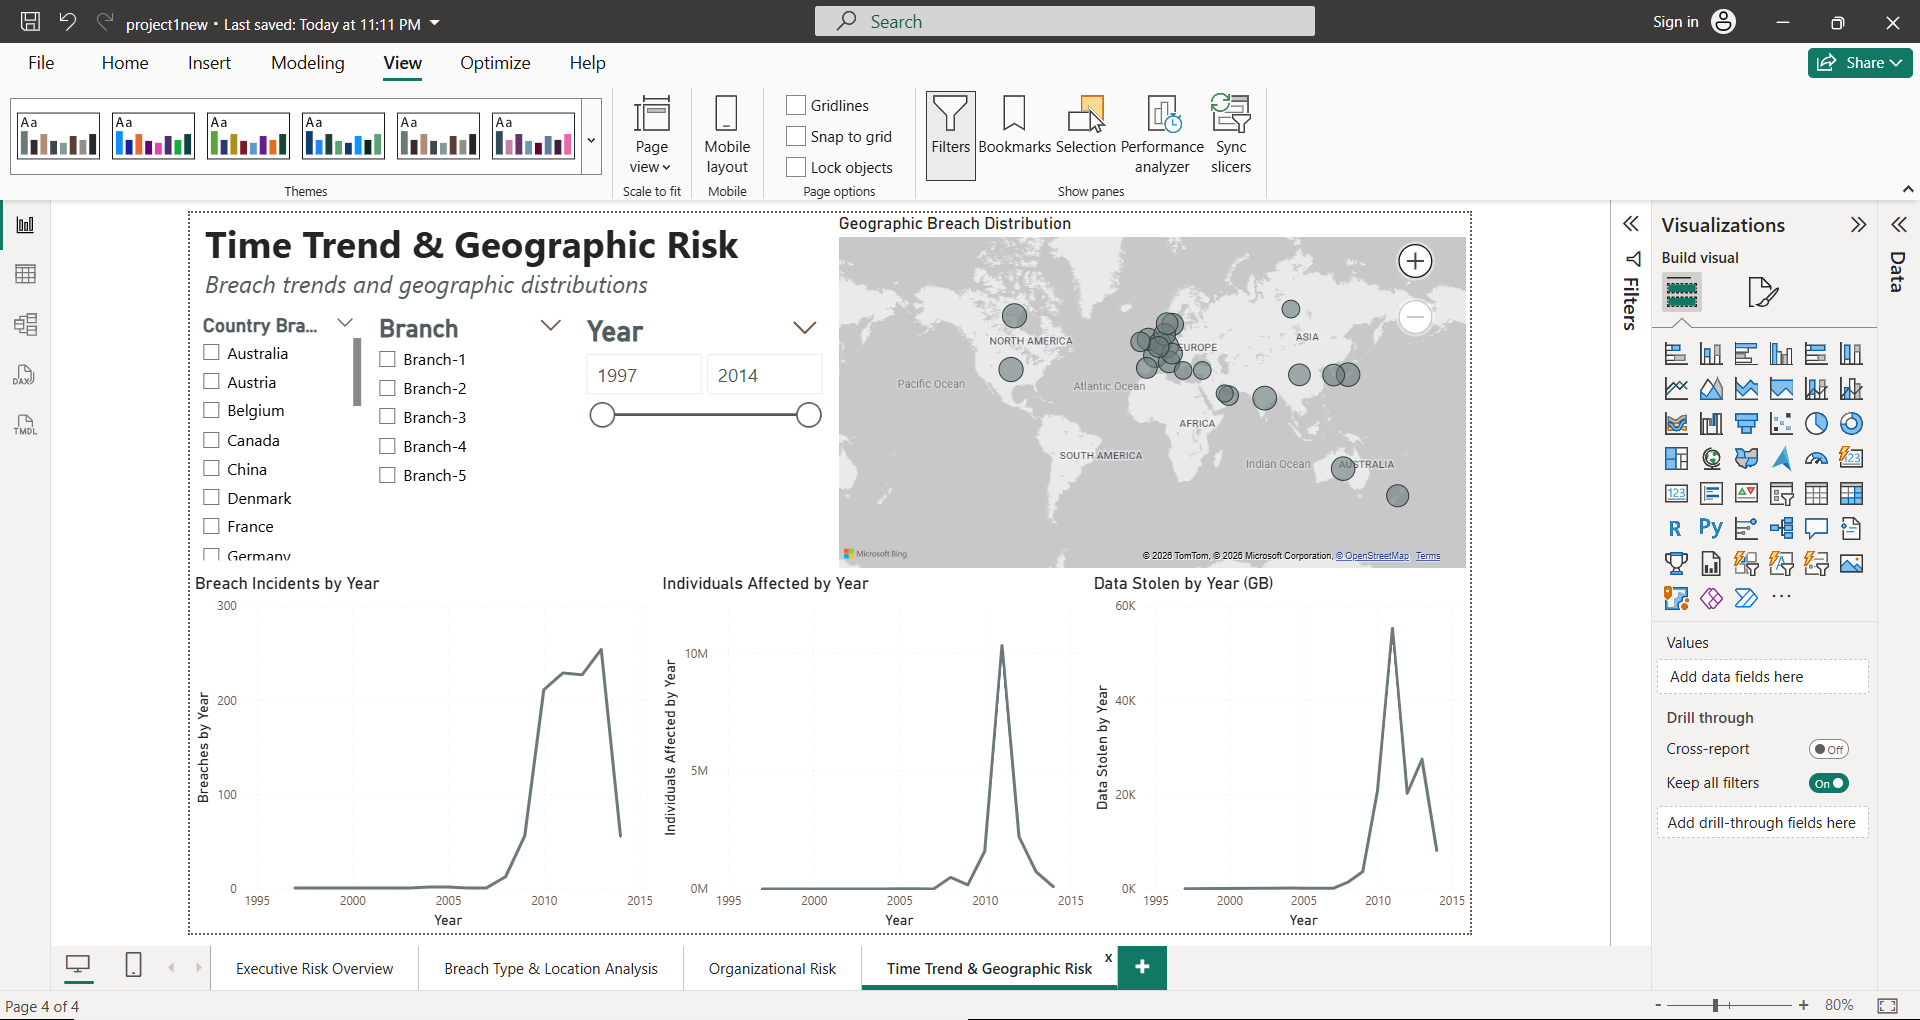

The page's visual inventory and layout, read from the dashboard file:
{"tool":"powerbi","page":{"name":"Time Trend & Geographic Risk","canvas":[1280,720],"ordinal":3},"visuals":[{"type":"textbox","box":[10,0,553.3,104.4],"z":0},{"type":"lineChart","title":"Breach Incidents by Year","fields":{"Category":["Final Transformed Data.Year"],"Y":["Dashboard Measures.Breaches by Year"]},"box":[0,360,467.8,360],"z":4000},{"type":"lineChart","title":"Individuals Affected by Year","fields":{"Category":["Final Transformed Data.Year"],"Y":["Dashboard Measures.Individuals Affected by Year"]},"box":[467.8,360,431.1,360],"z":5000},{"type":"lineChart","title":"Data Stolen by Year (GB)","fields":{"Category":["Final Transformed Data.Year"],"Y":["Dashboard Measures.Data Stolen by Year"]},"box":[898.9,360,381.1,360],"z":6000},{"type":"map","title":"Geographic Breach Distribution","fields":{"Category":["Final Transformed Data.CountryBranch"],"Size":["Dashboard Measures.Breach Count"]},"box":[643.3,0,636.7,360],"z":7000},{"type":"slicer","fields":{"Values":["Final Transformed Data.Year"]},"box":[384,96,256,256],"z":7001},{"type":"slicer","fields":{"Values":["Final Transformed Data.Branch"]},"box":[176,96,208,256],"z":7002},{"type":"slicer","fields":{"Values":["Final Transformed Data.CountryBranch"]},"box":[0,96,176,256],"z":7003}]}

Visuals, with their boxes on the page's 1280x720 design canvas (x1, y1, x2, y2). These are canvas units, not pixel positions in the 1920x1020 screenshot, which may show the page scaled, cropped or inside an application window:
textbox: <region>10, 0, 563, 104</region>
"Breach Incidents by Year" lineChart: <region>0, 360, 468, 720</region>
"Individuals Affected by Year" lineChart: <region>468, 360, 899, 720</region>
"Data Stolen by Year (GB)" lineChart: <region>899, 360, 1280, 720</region>
"Geographic Breach Distribution" map: <region>643, 0, 1280, 360</region>
slicer - Final Transformed Data.Year: <region>384, 96, 640, 352</region>
slicer - Final Transformed Data.Branch: <region>176, 96, 384, 352</region>
slicer - Final Transformed Data.CountryBranch: <region>0, 96, 176, 352</region>
